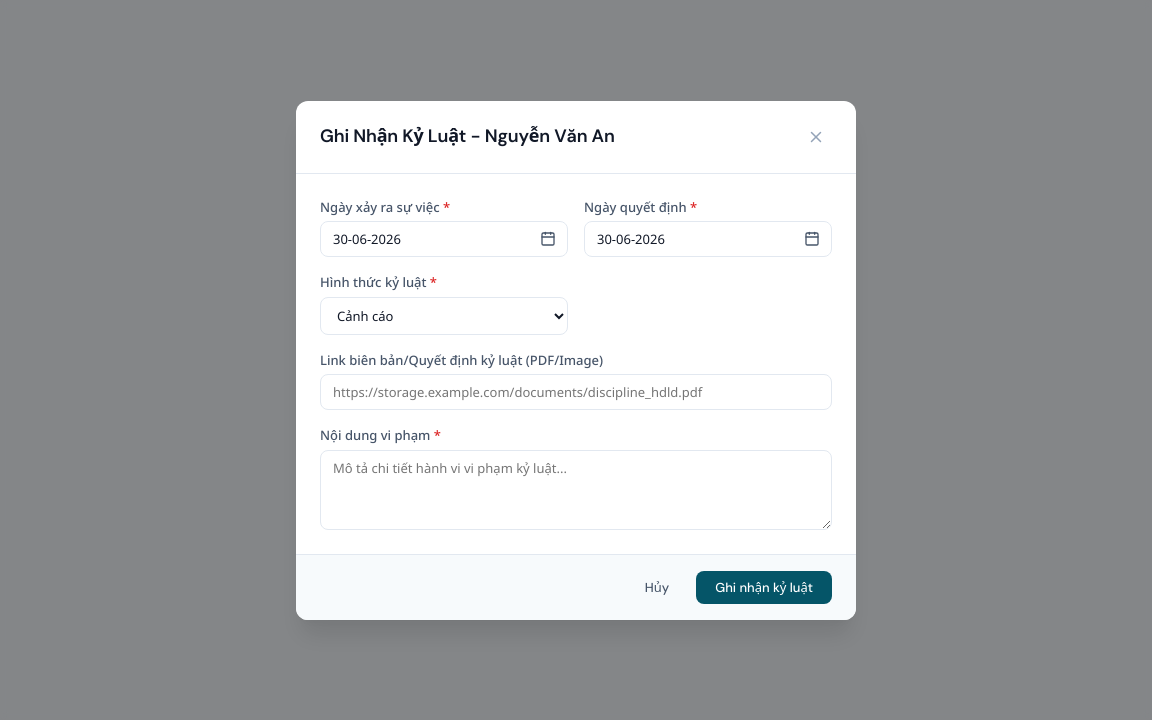
Test: Reward & Discipline Modals › DisciplineFormModal › validates required fields
Click the button "Ghi nhận kỷ luật".
click(764, 587)  # box top-left (696, 570), bottom-right (832, 604)
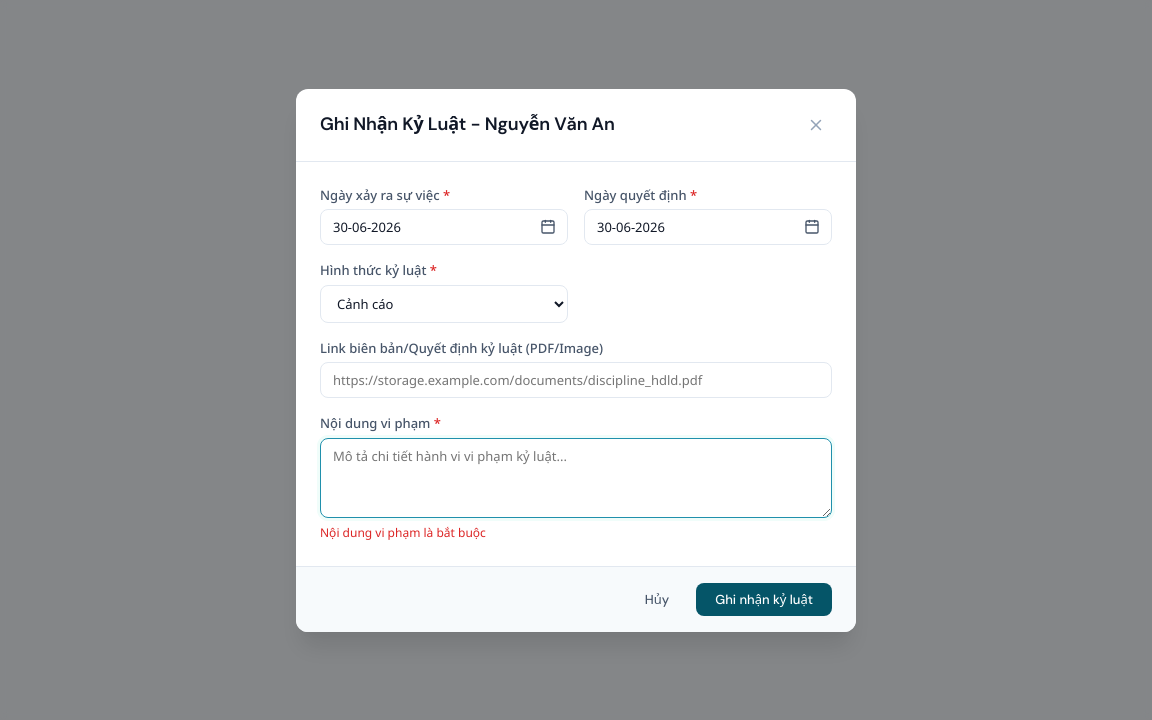
expect the text "Nội dung vi phạm là bắt buộc" is shown: met, box top-left (320, 524), bottom-right (486, 540)
